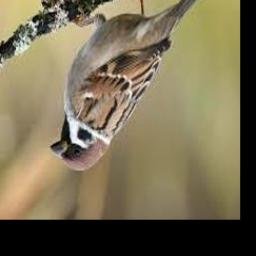Sparrow: (50, 0, 213, 171)
